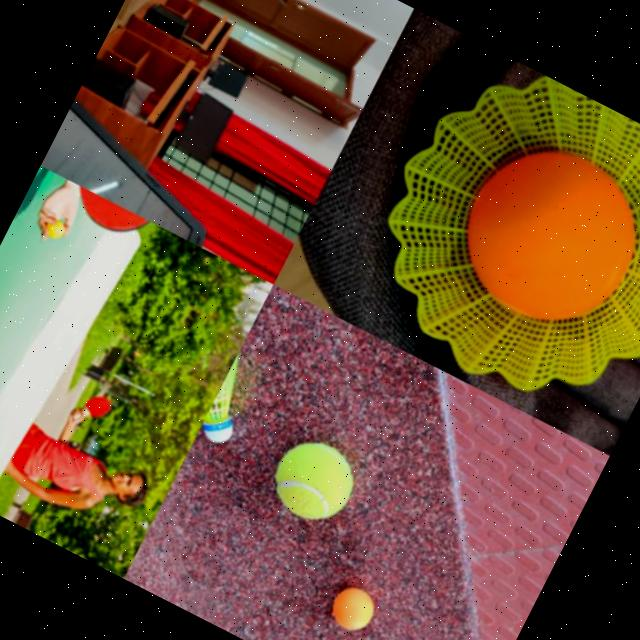ping-pong-ball: (440, 125, 640, 344), (324, 581, 381, 637), (113, 0, 164, 22), (43, 216, 65, 238)
